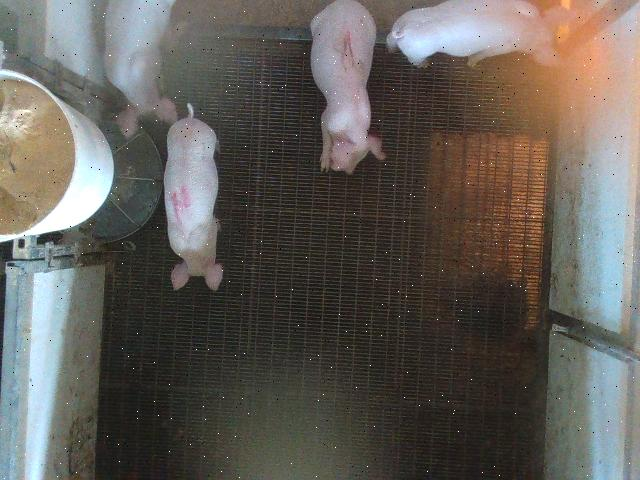pig-1: (311, 1, 386, 174)
pig-4: (164, 104, 222, 290)
